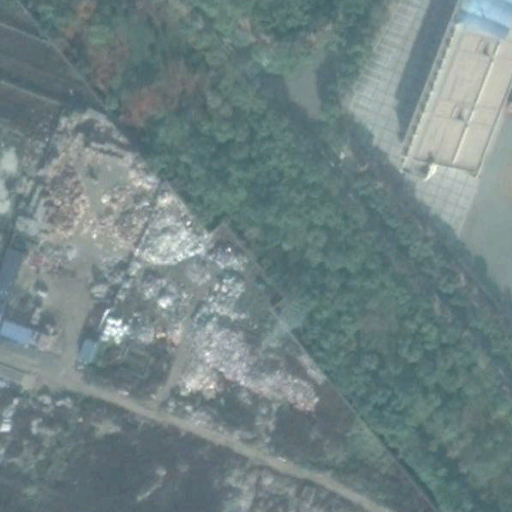msw: (50, 162, 321, 419)
